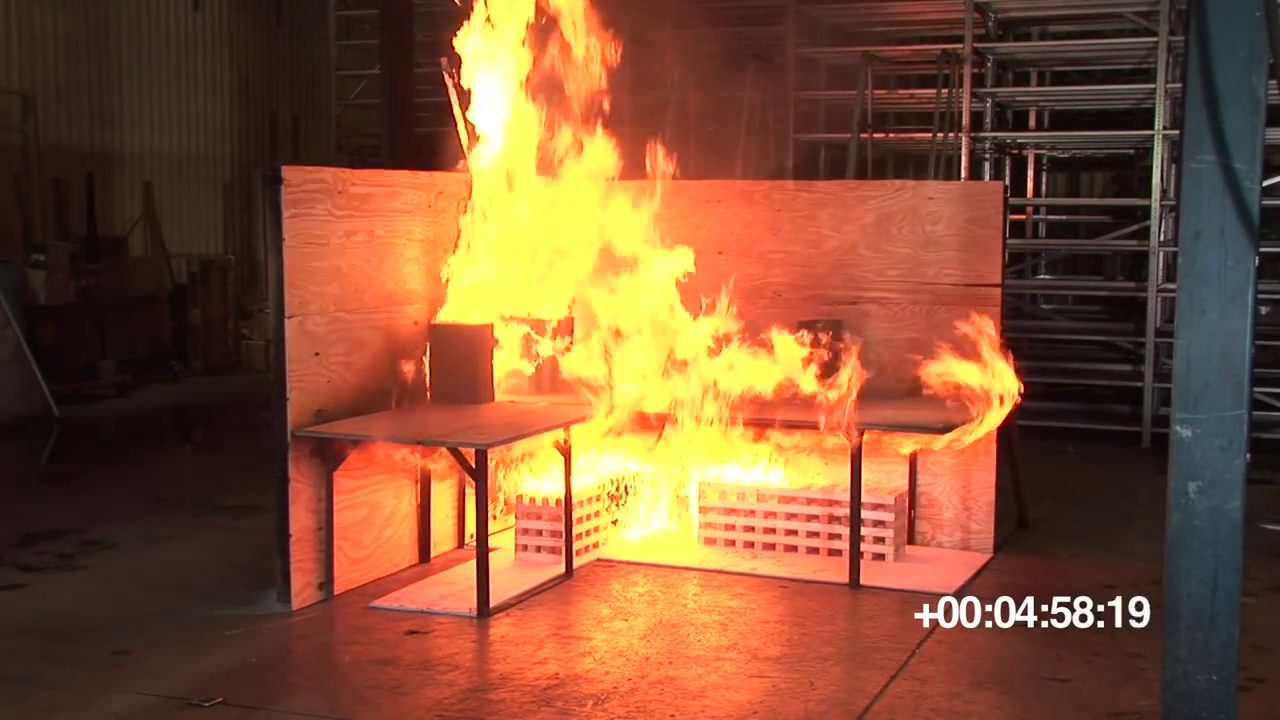fire: (440, 2, 866, 488), (920, 321, 1017, 428)
